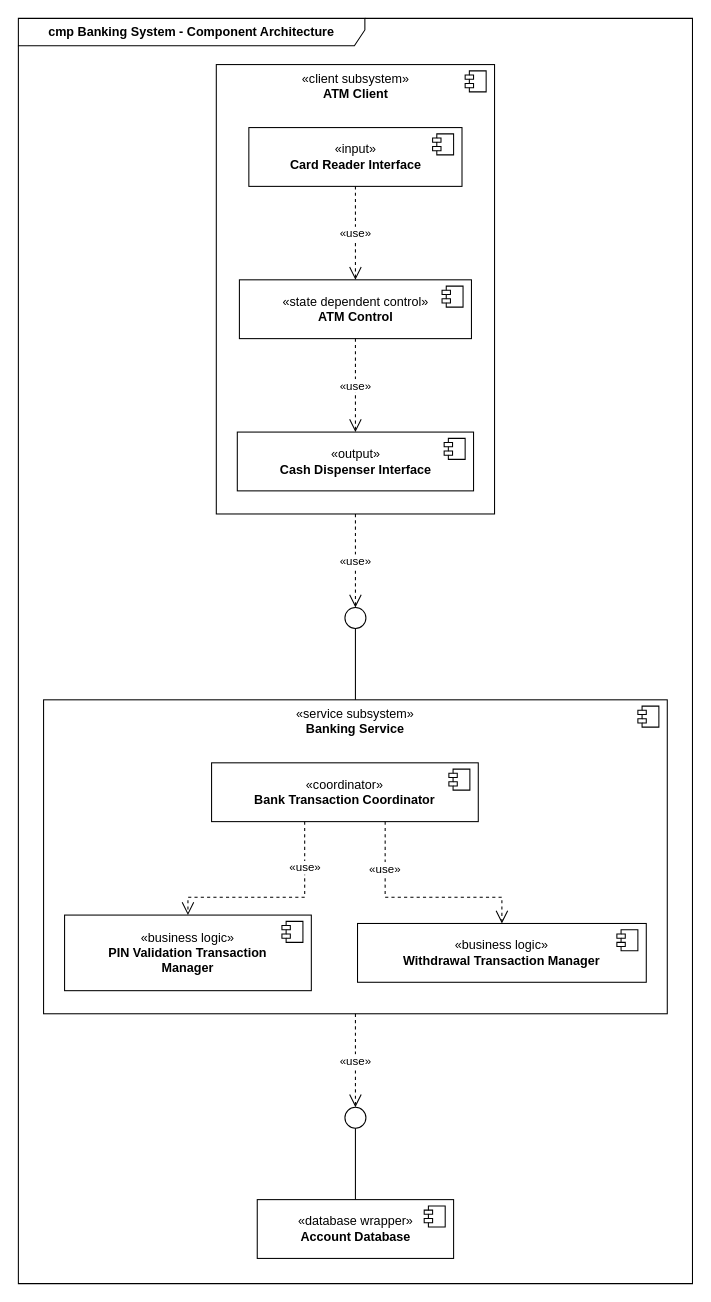
Some shapes in this 711 by 1302 pixel diagram are drawn without their labels. The centre of each missing label's shape, as x and y in pixels:
IAccountData: point (355, 1117)
IBankService: point (355, 617)
